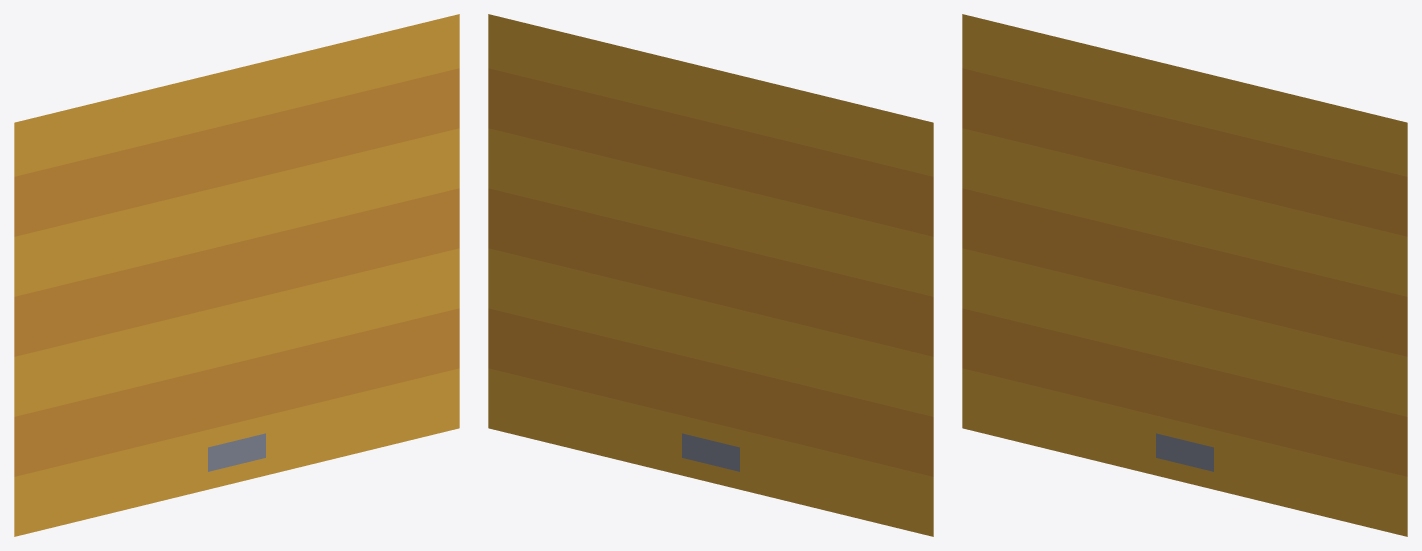
The model's file is DoorWideClosed-transformed.glb.
3 renders of one model, left to right at view 1: azimuth 30°, elevation 25°; view 2: azimuth 150°, elevation 25°; view 3: azimuth 330°, elevation 25°, orthographic.
Parts seen in each view (by area): view 1: door-wide-closed; view 2: door-wide-closed; view 3: door-wide-closed.
Part boxes in pixels (x1,y1,x2,y2): door-wide-closed: [14, 14, 459, 536]; door-wide-closed: [488, 14, 933, 536]; door-wide-closed: [962, 14, 1407, 536].
Size of the model in its own units: 1.8 by 1.6 by 0.
